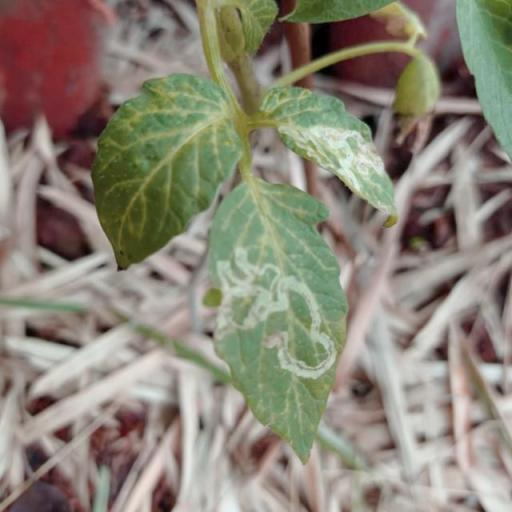Leaf Miner: (199, 182, 349, 464), (256, 81, 402, 231)
